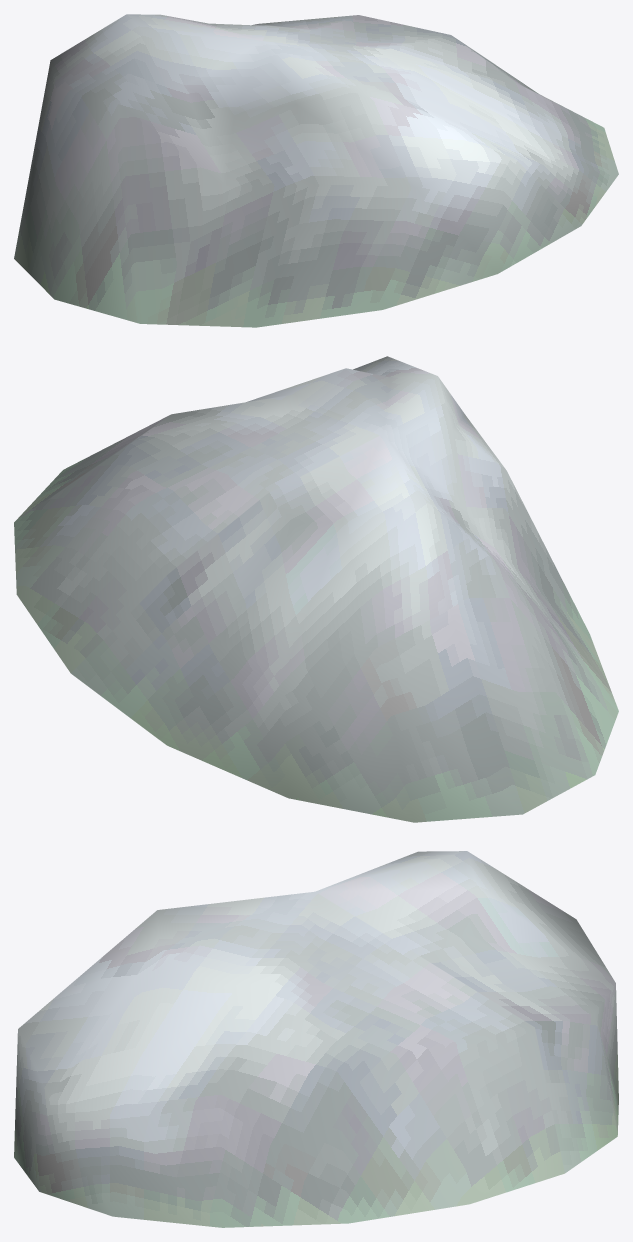
The model's file is TROLLHOLE02_STONEA22.fbx.
3 views of the same model, one above another, from view 1: azimuth 30°, elevation 25°; view 2: azimuth 150°, elevation 25°; view 3: azimuth 270°, elevation 25° (orthographic). The views are drawn at different scales.
Visible parts, largest first — view 1: TROLLHOLE02_STONEA22; view 2: TROLLHOLE02_STONEA22; view 3: TROLLHOLE02_STONEA22.
Part boxes in pixels (left/top/right/bottom): TROLLHOLE02_STONEA22: left=14, top=14, right=618, bottom=327; TROLLHOLE02_STONEA22: left=14, top=356, right=618, bottom=822; TROLLHOLE02_STONEA22: left=14, top=851, right=618, bottom=1227.
Bounding box in the file's own units: 15334 × 6612 × 13522.
Materials: 1 (1 with a texture image).
